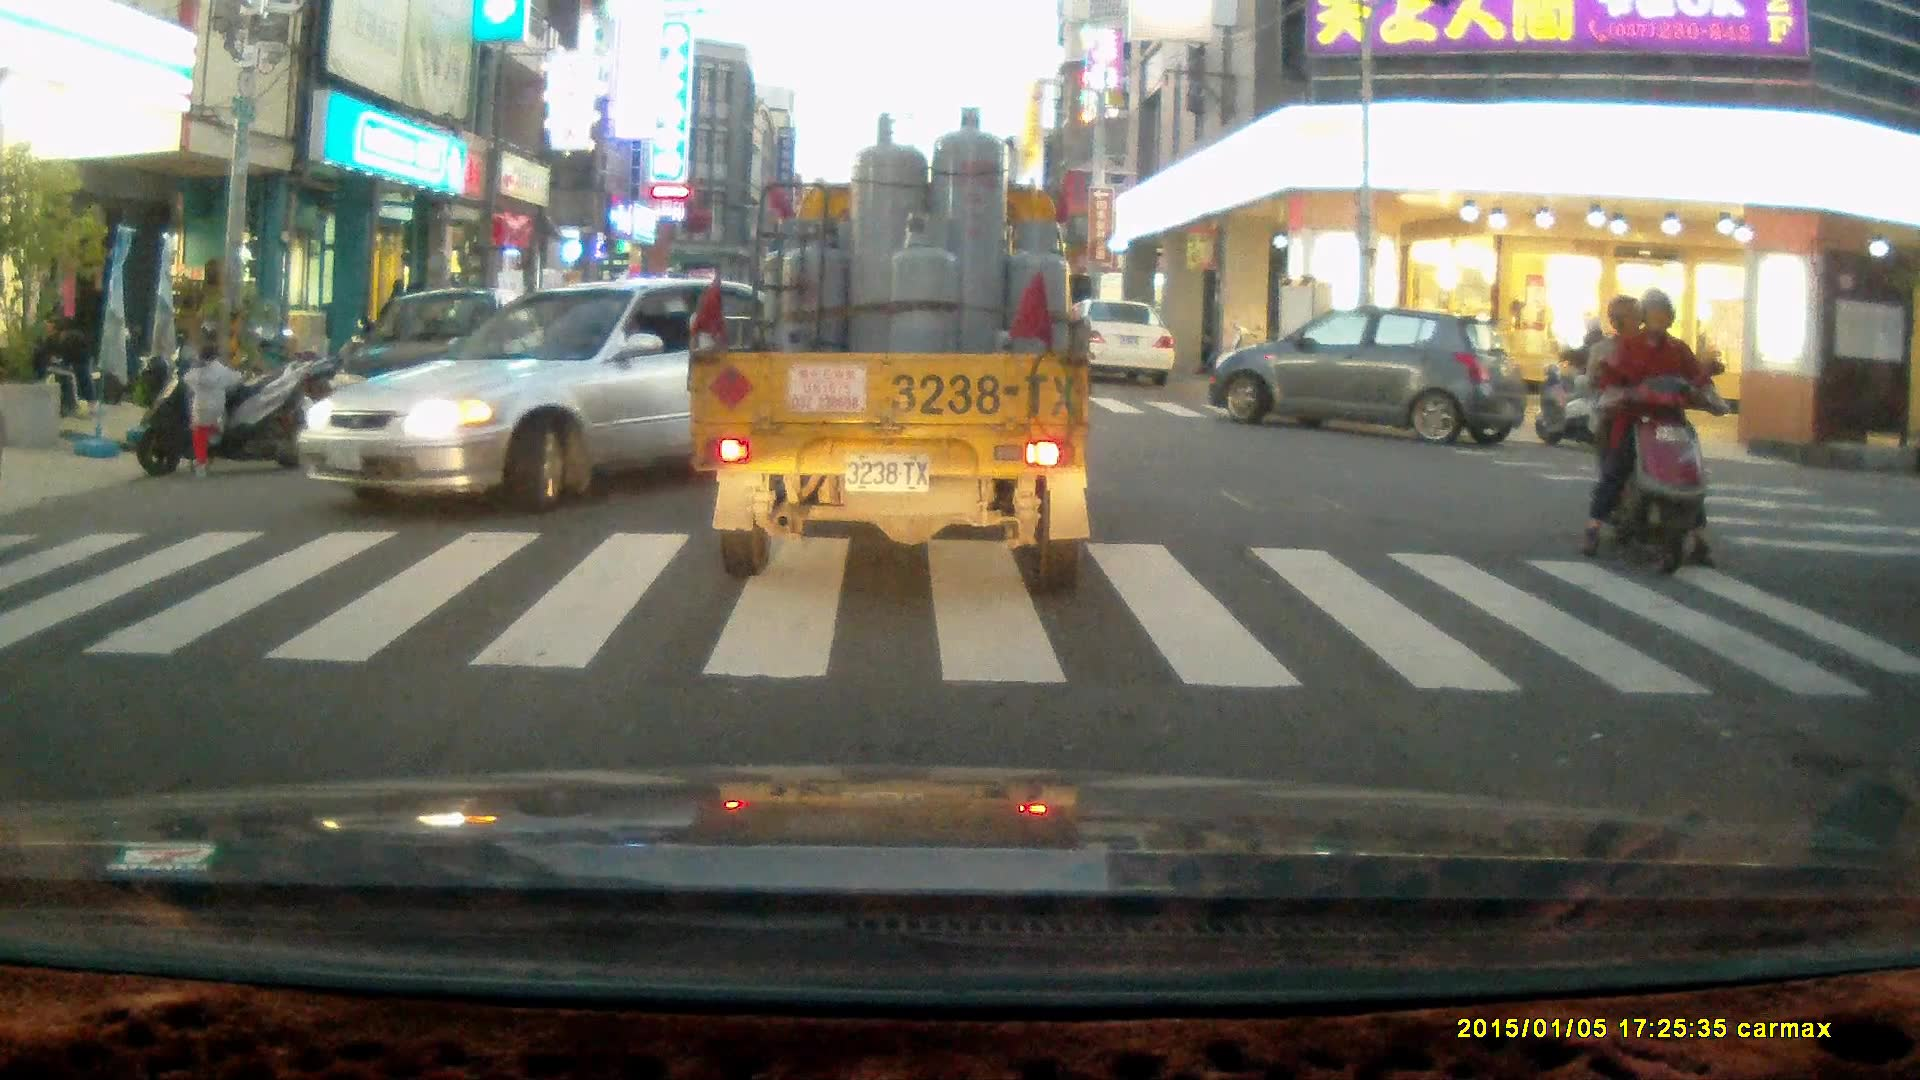pedestrian: (181, 342, 247, 479)
rider: (1574, 287, 1725, 576)
vehicle: (682, 107, 1090, 595), (301, 277, 852, 513), (1208, 308, 1519, 446), (323, 286, 553, 441), (1062, 298, 1181, 382)
